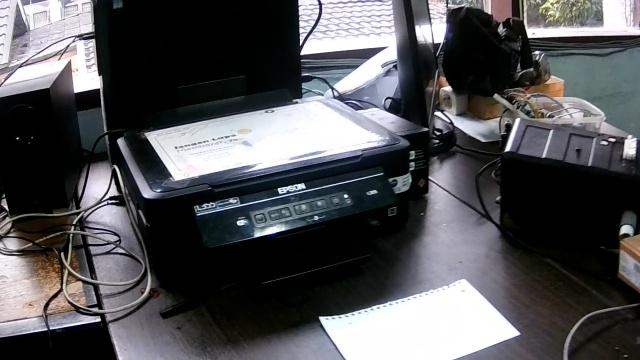Lemari: (113, 75, 431, 300)
